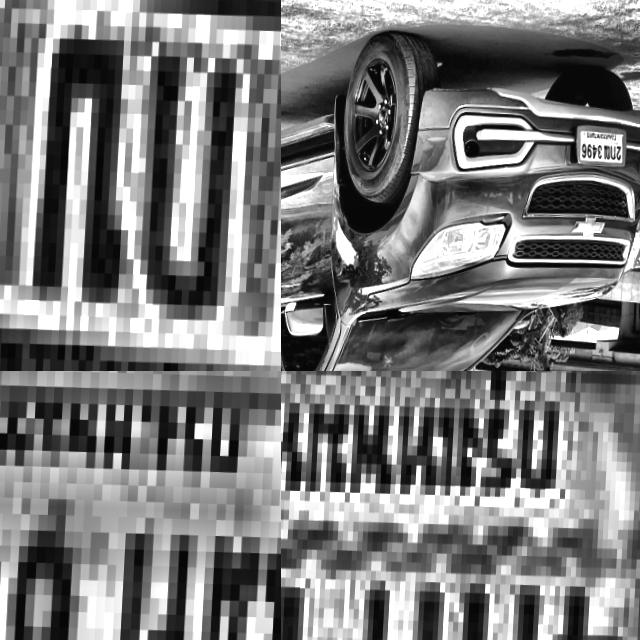license-plate: (0, 0, 281, 371), (281, 371, 640, 640), (0, 371, 281, 640), (571, 123, 628, 171)
